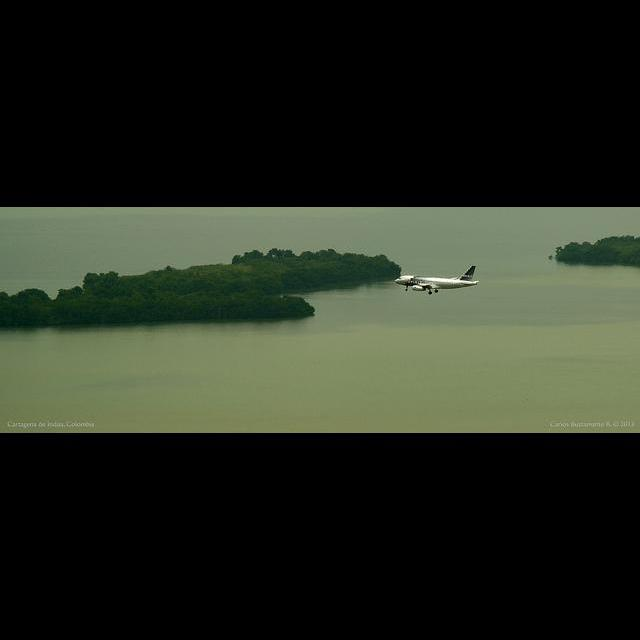airplane: (394, 264, 482, 294)
